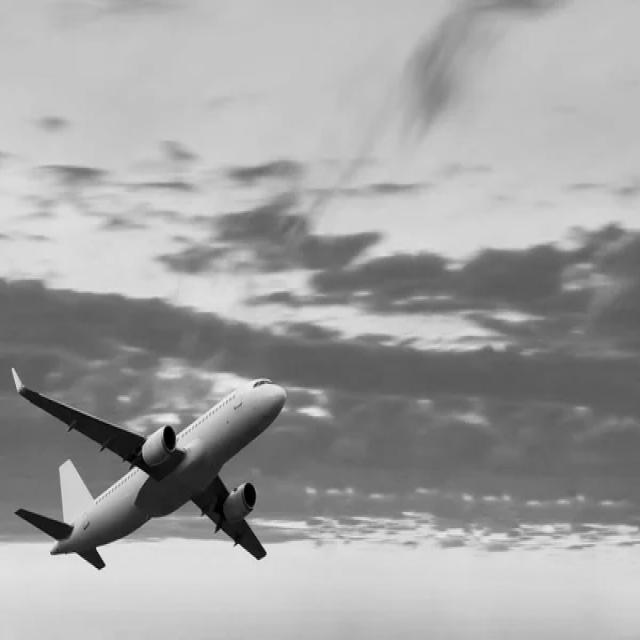Aircraft: (8, 354, 294, 582)
